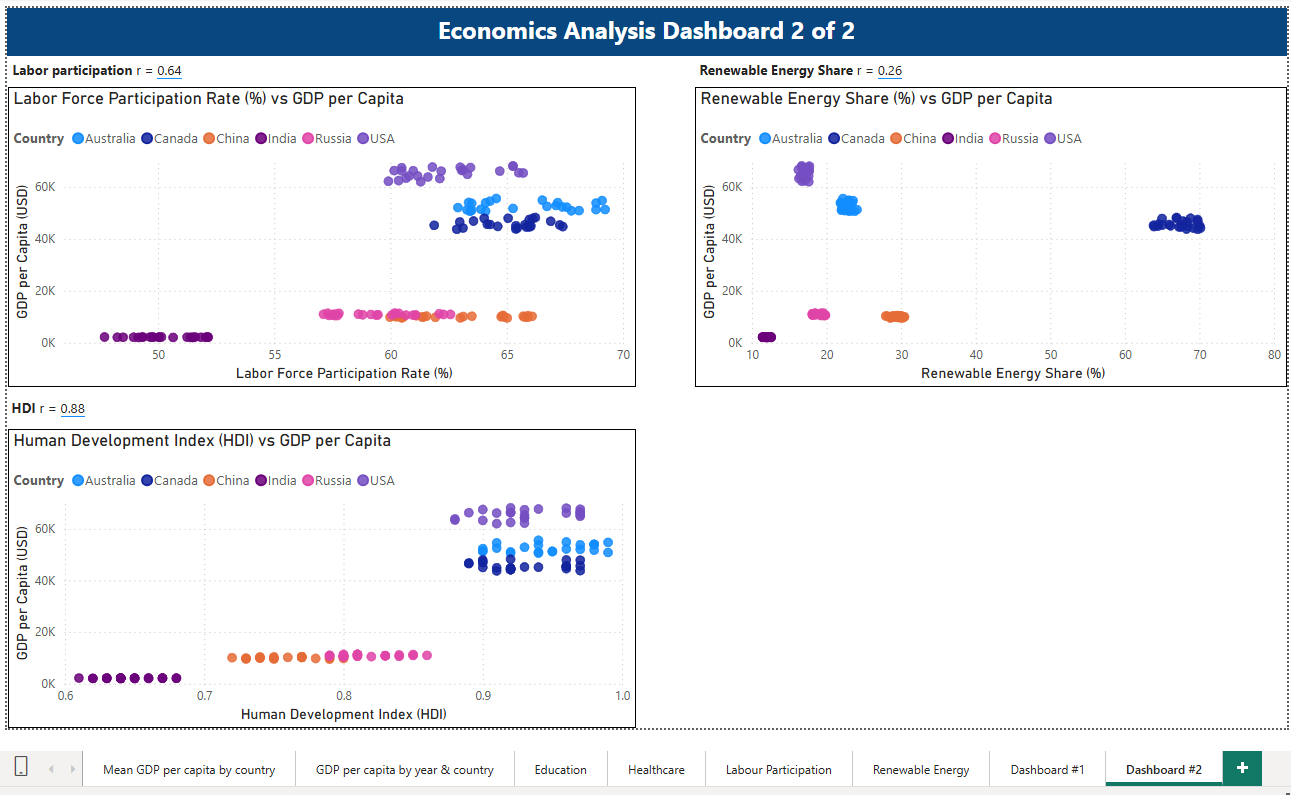

The page's visual inventory and layout, read from the dashboard file:
{"tool":"powerbi","page":{"name":"Dashboard #2","canvas":[1280,720],"ordinal":7},"visuals":[{"type":"scatterChart","title":"Labor Force Participation Rate (%) vs GDP per Capita","fields":{"Category":["Global_Economic_Data_Cleaned.Year"],"Series":["Global_Economic_Data_Cleaned.Country"],"X":["Sum(Global_Economic_Data_Cleaned.Labor Force Participation Rate (%))"],"Y":["Sum(Global_Economic_Data_Cleaned.GDP per Capita (in USD))"]},"box":[0.7,78.6,627.9,300],"z":0},{"type":"textbox","box":[1.4,47.9,222.2,30],"z":1000},{"type":"textbox","box":[687.9,47.9,274.3,30],"z":2000},{"type":"scatterChart","title":"Renewable Energy Share (%) vs GDP per Capita","fields":{"Category":["Global_Economic_Data_Cleaned.Year"],"Series":["Global_Economic_Data_Cleaned.Country"],"X":["Sum(Global_Economic_Data_Cleaned.Renewable Energy Share (%))"],"Y":["Sum(Global_Economic_Data_Cleaned.GDP per Capita (in USD))"]},"box":[687.9,78.6,592.1,300.7],"z":3000},{"type":"scatterChart","title":"Human Development Index (HDI) vs GDP per Capita","fields":{"Category":["Global_Economic_Data_Cleaned.Year"],"Series":["Global_Economic_Data_Cleaned.Country"],"X":["Sum(Global_Economic_Data_Cleaned.Human Development Index (HDI))"],"Y":["Sum(Global_Economic_Data_Cleaned.GDP per Capita (in USD))"]},"box":[1.2,421.2,627.7,299.2],"z":4000},{"type":"textbox","box":[0,386,239,35],"z":5000},{"type":"textbox","box":[0,0,1280,48.1],"z":5001}]}

Visuals, with their boxes in screenshot pixels (x1, y1, x2, y2):
"Labor Force Participation Rate (%) vs GDP per Capita" scatterChart: [left=4, top=82, right=629, bottom=380]
textbox: [left=5, top=51, right=226, bottom=81]
textbox: [left=688, top=51, right=960, bottom=81]
"Renewable Energy Share (%) vs GDP per Capita" scatterChart: [left=688, top=82, right=1277, bottom=381]
"Human Development Index (HDI) vs GDP per Capita" scatterChart: [left=5, top=422, right=629, bottom=720]
textbox: [left=3, top=387, right=241, bottom=422]
textbox: [left=3, top=3, right=1277, bottom=51]
